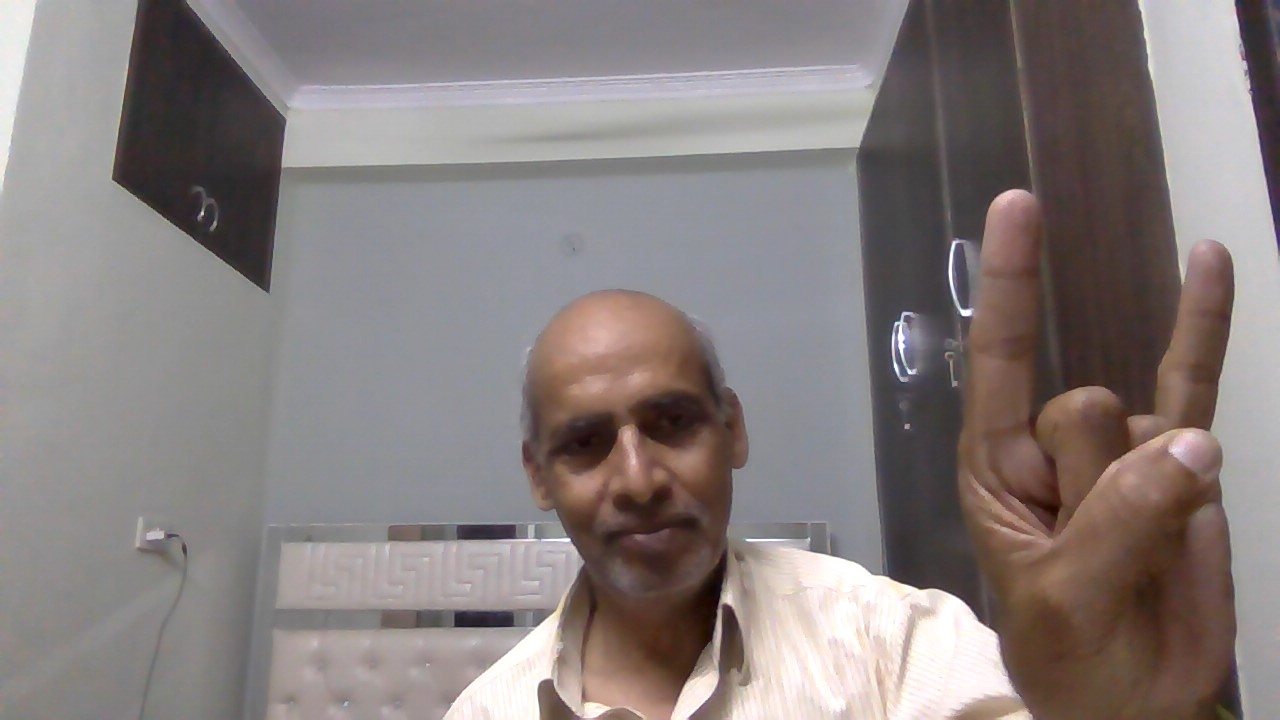Select All: (948, 173, 1255, 719)
